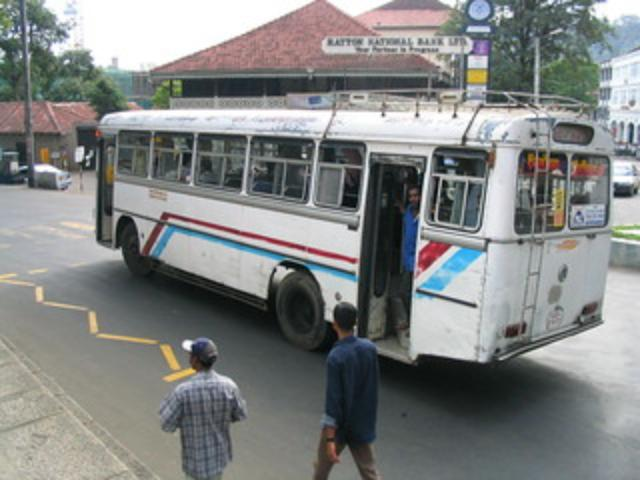bus: (94, 104, 610, 366)
